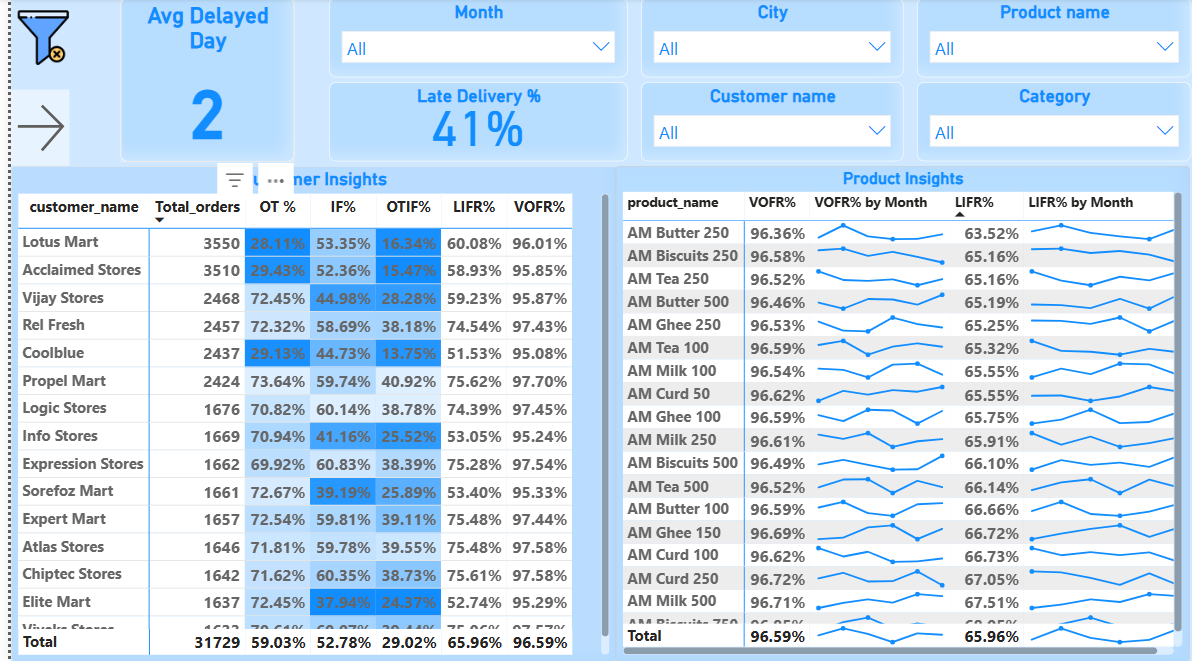

The dashboard page shown, as its layout file describes it:
{"tool":"powerbi","page":{"name":"Customer And Product Insights","canvas":[1280,720],"ordinal":2},"visuals":[{"type":"pivotTable","title":"Customer Insights","fields":{"Rows":["dim_customers.customer_name"],"Values":["Measure.Total_orders","Measure.OT %","Measure.IF%","Measure.OTIF%","Measure.LIFR%","Measure.VOFR%"]},"box":[0,182.2,657.1,538.4],"z":0},{"type":"pivotTable","title":"Product Insights","fields":{"Rows":["dim_products.product_name"],"Values":["Measure.VOFR%","SparklineData(Measure.VOFR%_[dim_date.Date Hierarchy.Month])","Measure.LIFR%","SparklineData(Measure.LIFR%_[dim_date.Date Hierarchy.Month])"]},"box":[655.5,182.2,623,538.4],"z":1000},{"type":"slicer","title":"Month","fields":{"Values":["dim_date.Month"]},"box":[344.8,0,323.7,86.2],"z":2000},{"type":"slicer","title":"City","fields":{"Values":["dim_customers.city"]},"box":[683.1,0,284.6,86.2],"z":3000},{"type":"slicer","title":"Category","fields":{"Values":["dim_products.category"]},"box":[982.4,91.1,297.7,86.2],"z":4000},{"type":"slicer","title":"Customer name","fields":{"Values":["dim_customers.customer_name"]},"box":[683.1,91.1,284.6,86.2],"z":5000},{"type":"slicer","title":"Product name","fields":{"Values":["dim_products.product_name"]},"box":[982.4,0,297.7,86.2],"z":6000},{"type":"card","title":"Avg  Delayed Day","fields":{"Values":["Measure.Avg_day_delayed"]},"box":[118.7,0,188.7,177.3],"z":7000},{"type":"image","box":[0,0,69.9,86.2],"z":8000},{"type":"actionButton","box":[0,99.2,63.4,83],"z":9000},{"type":"card","title":"Late Delivery %","fields":{"Values":["Measure.Late_deliver%"]},"box":[344.8,91.1,323.7,86.2],"z":9001}]}

Visuals, with their boxes in screenshot pixels (x1, y1, x2, y2), scaled from the page's 1280x720 canvas onto the 1192x661 screenshot:
"Customer Insights" pivotTable: (x1=0, y1=167, x2=612, y2=660)
"Product Insights" pivotTable: (x1=610, y1=167, x2=1191, y2=660)
"Month" slicer: (x1=321, y1=0, x2=623, y2=79)
"City" slicer: (x1=636, y1=0, x2=901, y2=79)
"Category" slicer: (x1=915, y1=84, x2=1191, y2=163)
"Customer name" slicer: (x1=636, y1=84, x2=901, y2=163)
"Product name" slicer: (x1=915, y1=0, x2=1191, y2=79)
"Avg  Delayed Day" card: (x1=111, y1=0, x2=286, y2=163)
image: (x1=0, y1=0, x2=65, y2=79)
actionButton: (x1=0, y1=91, x2=59, y2=167)
"Late Delivery %" card: (x1=321, y1=84, x2=623, y2=163)
